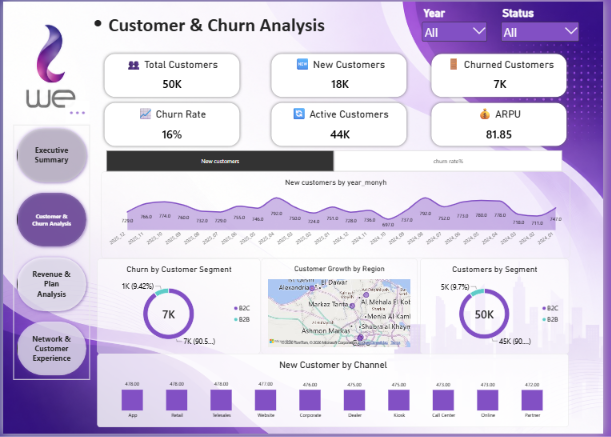

The page's visual inventory and layout, read from the dashboard file:
{"tool":"powerbi","page":{"name":"Customer & Churn Analysis","canvas":[1500,1080],"ordinal":1},"visuals":[{"type":"shape","box":[244,122,354,124],"z":0},{"type":"cardVisual","title":"👥 Total Customers","fields":{"Data":["table.total custome"]},"box":[264,136,314,96],"z":1000},{"type":"shape","box":[662,122,354,124],"z":2000},{"type":"shape","box":[1062,122,354,124],"z":3000},{"type":"shape","box":[1062,246,354,124],"z":4000},{"type":"shape","box":[244,246,354,124],"z":5000},{"type":"shape","box":[662,246,354,124],"z":6000},{"type":"cardVisual","title":"📈 Churn Rate","fields":{"Data":["table.churn rate%"]},"box":[266,260,314,96],"z":7000},{"type":"cardVisual","title":"🆕 New Customers","fields":{"Data":["table.New customers"]},"box":[684,136,314,96],"z":8000},{"type":"cardVisual","title":"🔄 Active Customers","fields":{"Data":["table.active customer"]},"box":[684,260,314,96],"z":9000},{"type":"cardVisual","title":"🚪 Churned Customers","fields":{"Data":["table.churned customer"]},"box":[1084,136,314,96],"z":10000},{"type":"cardVisual","title":"💰 ARPU","fields":{"Data":["table.Arpu"]},"box":[1082,260,314,96],"z":11000},{"type":"stackedAreaChart","fields":{"Y":["table.New customers"],"Category":["Dim_Date.year_monyh"]},"box":[244,426,1172,216],"z":12000},{"type":"slicer","fields":{"Values":["customer statue.customer statue"]},"box":[236.7,370,1178.3,56.7],"z":13000},{"type":"donutChart","title":"Customers by Segment","fields":{"Y":["table.total custome"],"Category":["Dim_Customer.Segment"]},"box":[1042,642,371.7,238.3],"z":14000},{"type":"donutChart","title":"Churn by Customer Segment","fields":{"Category":["Dim_Customer.Segment"],"Y":["table.churned customer"]},"box":[236,642,408.3,238.3],"z":15000},{"type":"slicer","fields":{"Values":["Dim_Customer.Status"]},"box":[1240,12.5,205,95],"z":16000},{"type":"map","title":" Customer Growth by Region","fields":{"Category":["Dim_Geography.City"],"Size":["Count(Fact_Acquisition.New_Customers)"]},"box":[646,642,390,238.3],"z":17000},{"type":"columnChart","title":"New Customer by Channel","fields":{"Category":["Dim_Channel.Channel_Name"],"Y":["Count(Fact_Acquisition.New_Customers)"]},"box":[236,880,1178,184],"z":18000},{"type":"textbox","box":[140,23.3,715,113.3],"z":19000},{"type":"pageNavigator","box":[25,307.5,192.5,637.5],"z":20000},{"type":"slicer","fields":{"Values":["Dim_Date.Year"]},"box":[1042.5,12.5,172.5,95],"z":21000}]}

Visuals, with their boxes on the page's 1500x1080 design canvas (x1, y1, x2, y2). These are canvas units, not pixel positions in the 611x437 screenshot, which may show the page scaled, cropped or inside an application window:
shape: 244/122/598/246
"👥 Total Customers" cardVisual: 264/136/578/232
shape: 662/122/1016/246
shape: 1062/122/1416/246
shape: 1062/246/1416/370
shape: 244/246/598/370
shape: 662/246/1016/370
"📈 Churn Rate" cardVisual: 266/260/580/356
"🆕 New Customers" cardVisual: 684/136/998/232
"🔄 Active Customers" cardVisual: 684/260/998/356
"🚪 Churned Customers" cardVisual: 1084/136/1398/232
"💰 ARPU" cardVisual: 1082/260/1396/356
stackedAreaChart - table.New customers x Dim_Date.year_monyh: 244/426/1416/642
slicer - customer statue.customer statue: 237/370/1415/427
"Customers by Segment" donutChart: 1042/642/1414/880
"Churn by Customer Segment" donutChart: 236/642/644/880
slicer - Dim_Customer.Status: 1240/12/1445/108
" Customer Growth by Region" map: 646/642/1036/880
"New Customer by Channel" columnChart: 236/880/1414/1064
textbox: 140/23/855/137
pageNavigator: 25/308/218/945
slicer - Dim_Date.Year: 1042/12/1215/108
